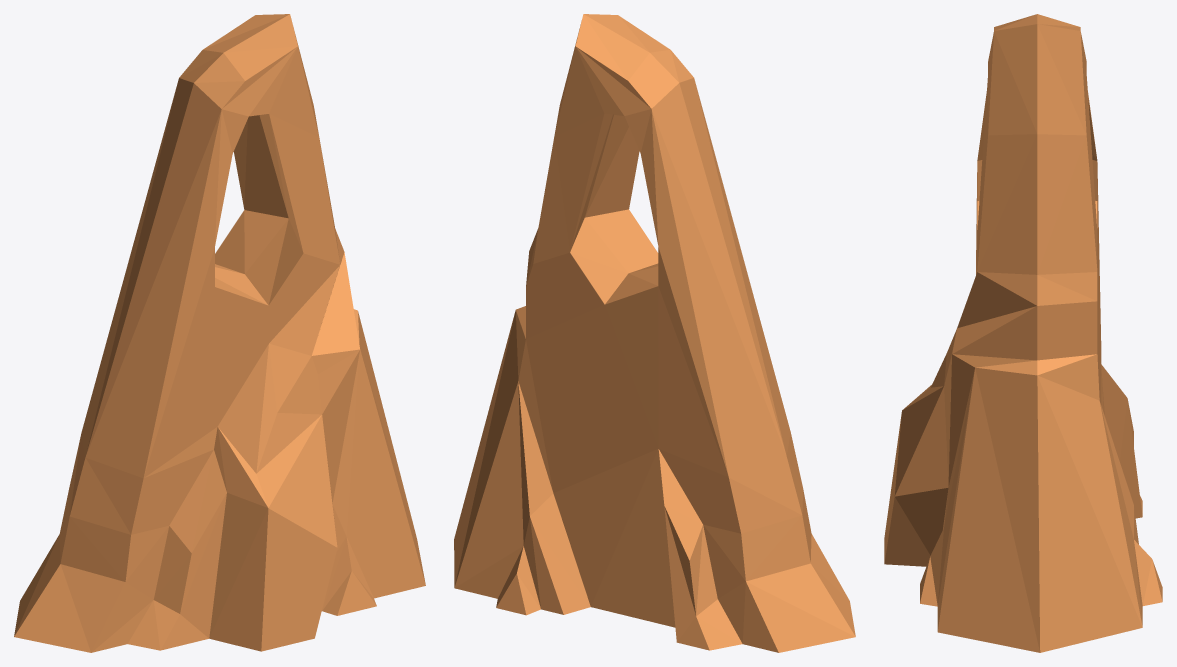
File: Rock_Large_Canyon_Eroded_01.FBX
3 renders of one model, left to right at view 1: azimuth 30°, elevation 25°; view 2: azimuth 150°, elevation 25°; view 3: azimuth 270°, elevation 25°, orthographic.
Visible parts, largest first — view 1: Rock_Large_Canyon_Eroded_01; view 2: Rock_Large_Canyon_Eroded_01; view 3: Rock_Large_Canyon_Eroded_01.
Boxes of the visible parts, box(x1,y1,x2,y2) form: Rock_Large_Canyon_Eroded_01: box(14, 14, 425, 652); Rock_Large_Canyon_Eroded_01: box(454, 14, 855, 652); Rock_Large_Canyon_Eroded_01: box(884, 14, 1162, 652).
Bounding box in the file's own units: 9453 × 12484 × 5567.
